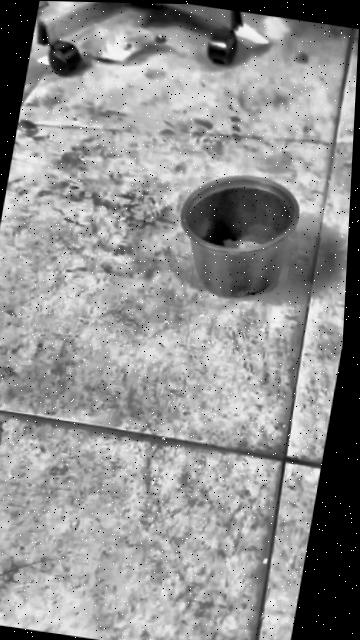pot: (166, 165, 304, 303)
